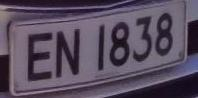1: (91, 19, 109, 76)
3: (130, 14, 156, 67)
8: (106, 16, 132, 73), (154, 7, 177, 60)
E: (23, 26, 56, 85)
N: (54, 26, 84, 82)
